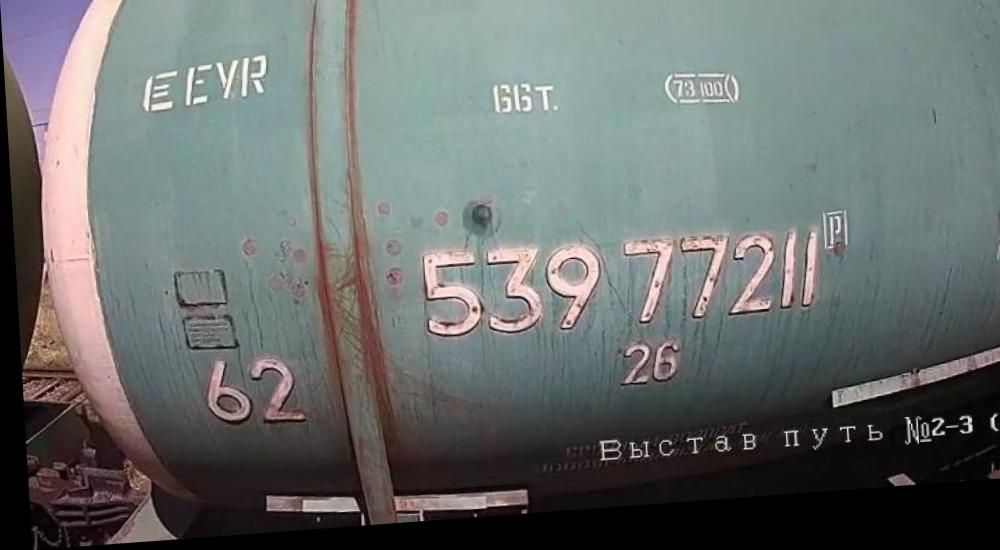Wagon-number: (412, 234, 819, 349)
